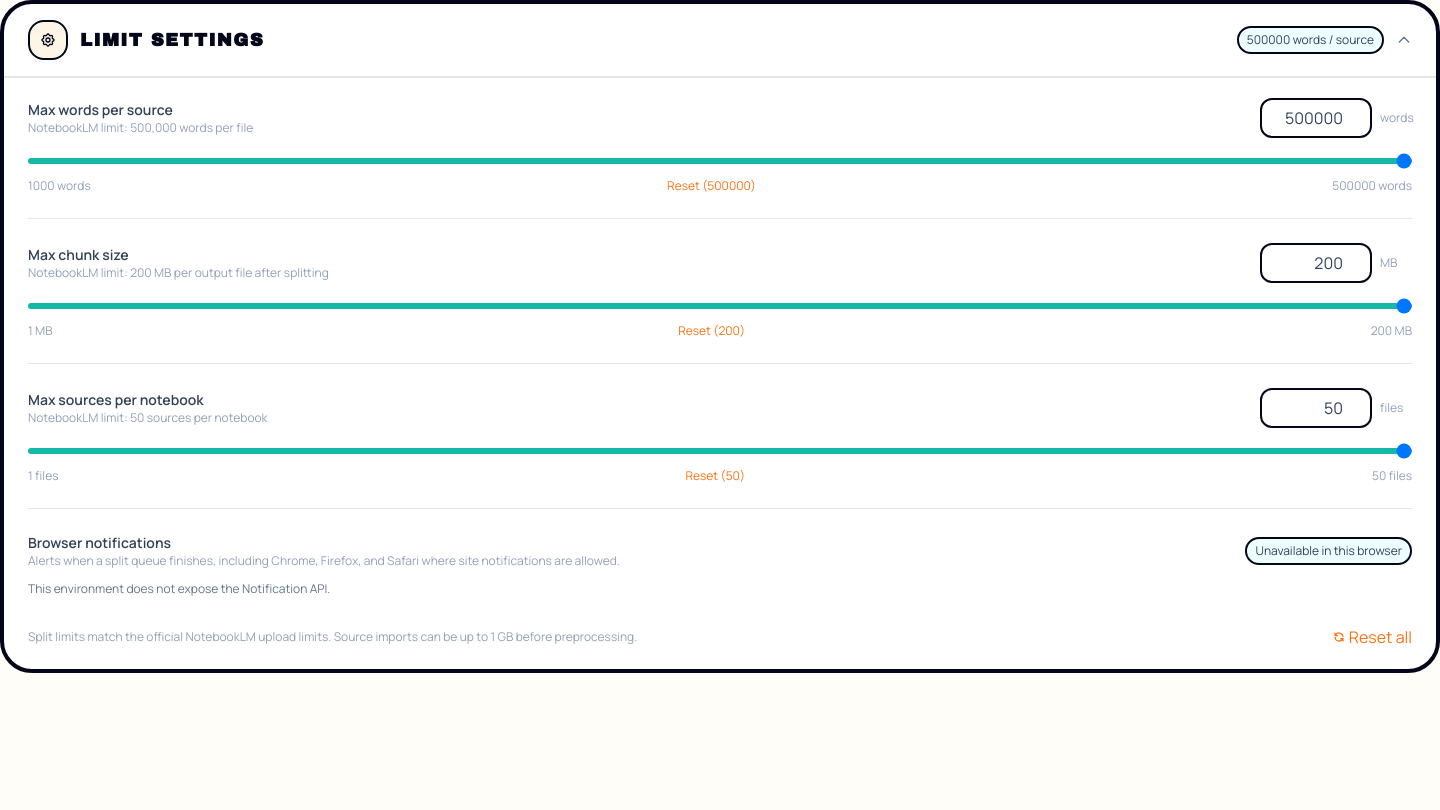
Test: SettingsPanel › keeps the range and number inputs in sync and supports reset
The width and height of the screenshot is (1440, 810).
Replace the text in the number field in the row of "NotebookLM limit: 500,000 words per file" with "250000" at (1316, 118), box [1260,98,1372,138]
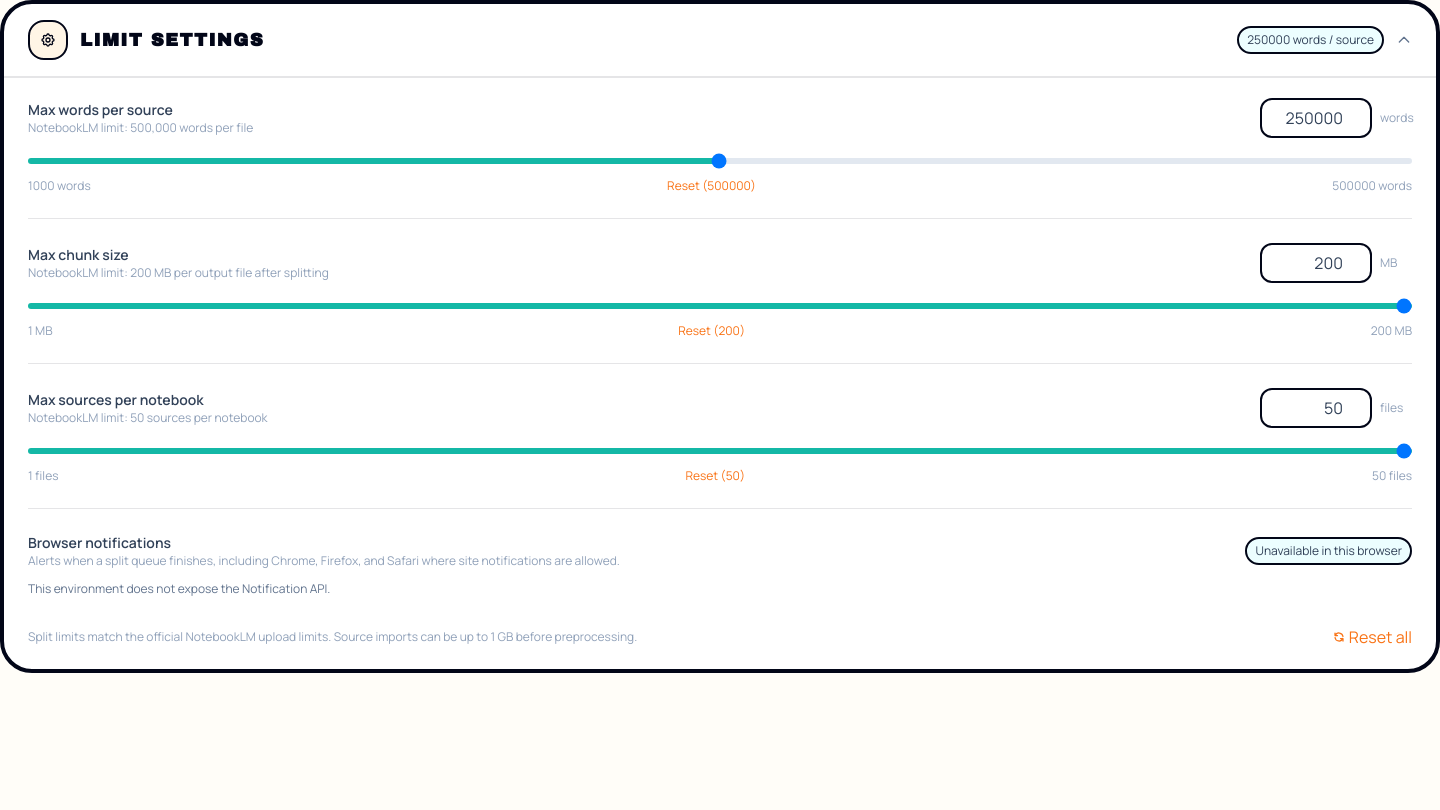
Result: the slider below "NotebookLM limit: 500,000 words per file" holds "250000"
Set the slider below "NotebookLM limit: 500,000 words per file" to "300000" at (856, 161), box [28,158,1412,164]
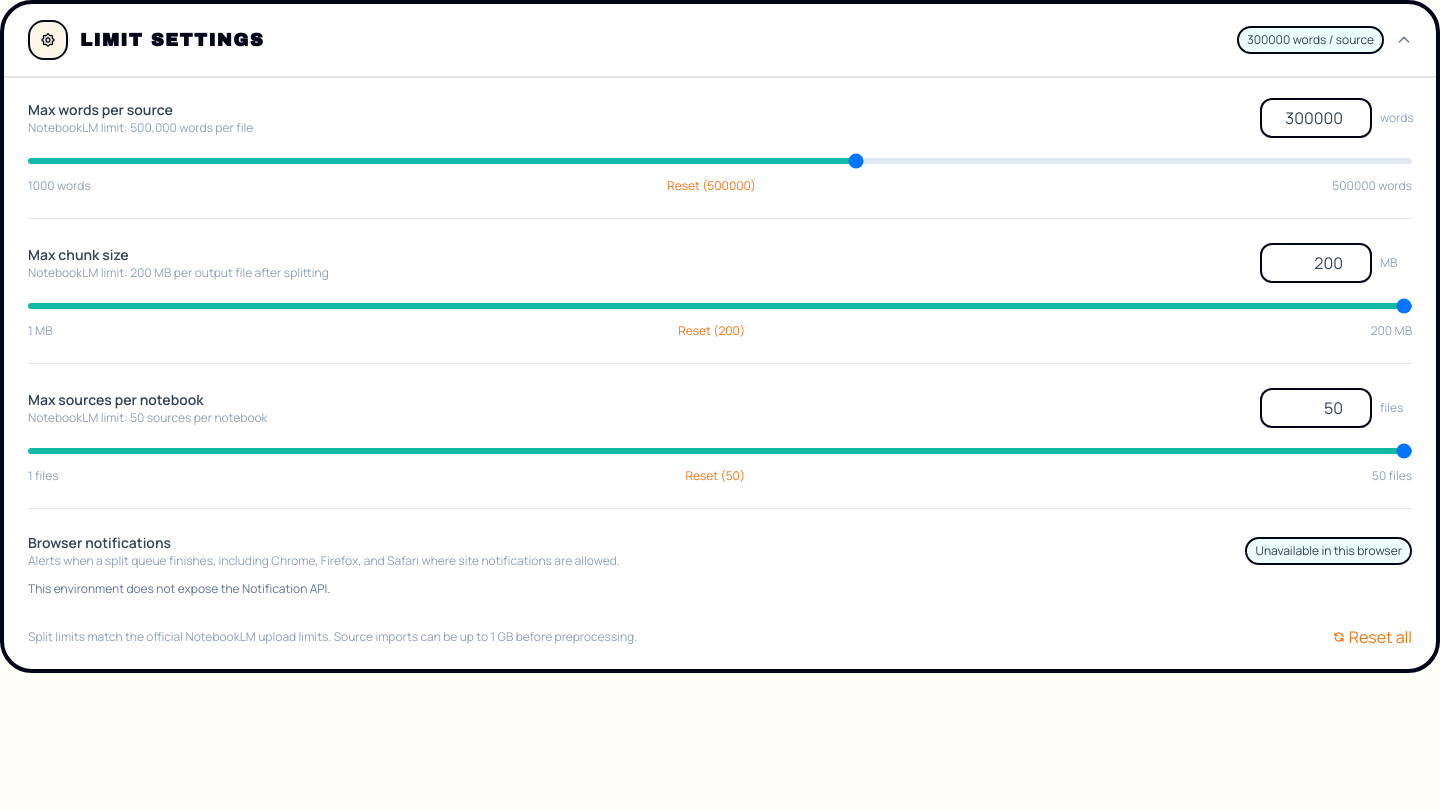
Result: the number field in the row of "NotebookLM limit: 500,000 words per file" holds "300000" at [1260,98,1372,138]
Click the button "Reset (500000)".
click(712, 186)  # box [667,178,756,194]
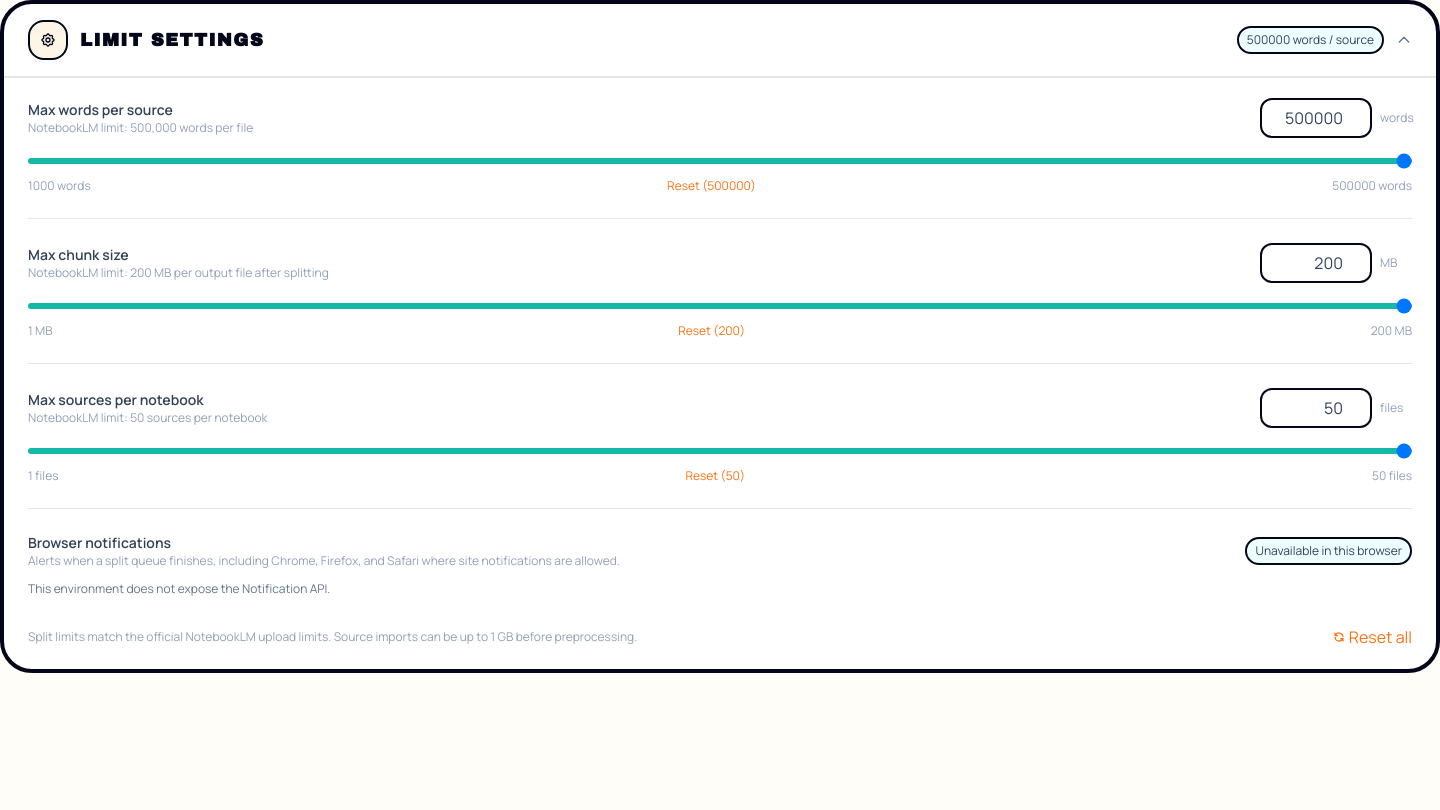
Result: the number field in the row of "NotebookLM limit: 500,000 words per file" holds "500000" at [1260,98,1372,138]
Result: the slider below "NotebookLM limit: 500,000 words per file" holds "500000" at [28,158,1412,164]
